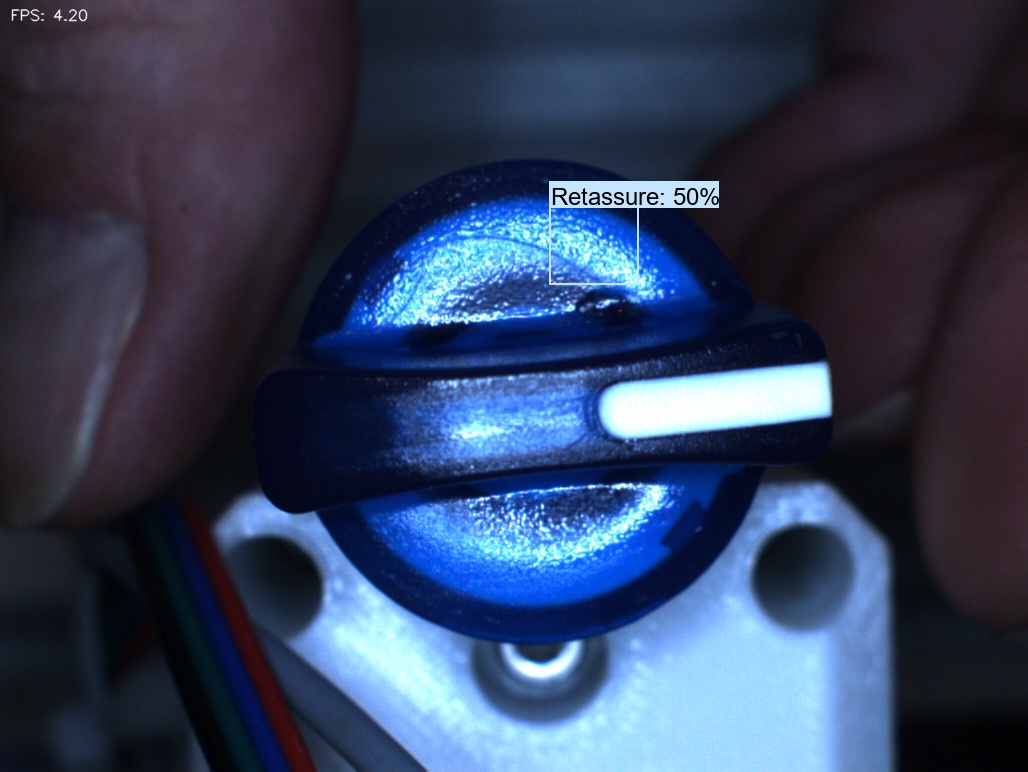Choc: (571, 262, 649, 340)
